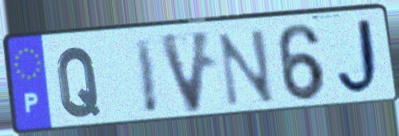6: (275, 21, 329, 104)
I: (132, 35, 162, 118)
J: (335, 15, 387, 100)
N: (215, 26, 278, 110)
Q: (54, 44, 103, 121)
V: (155, 27, 215, 118)
